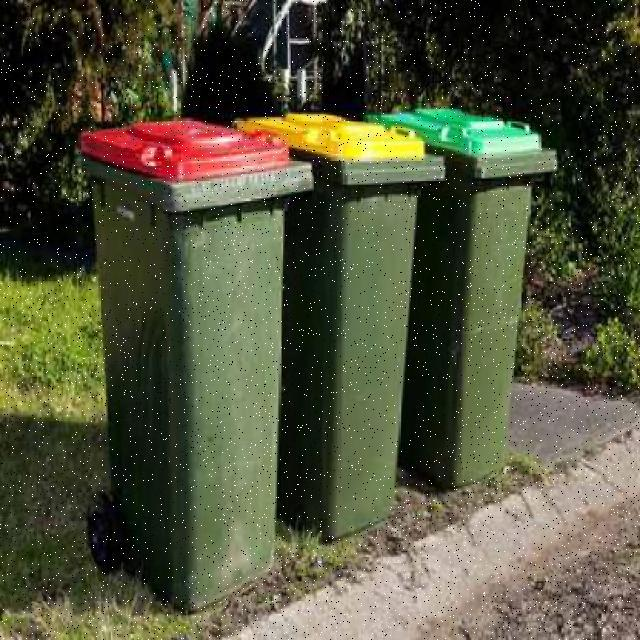garbage container: (74, 114, 320, 625), (277, 109, 450, 577), (396, 100, 564, 502)
